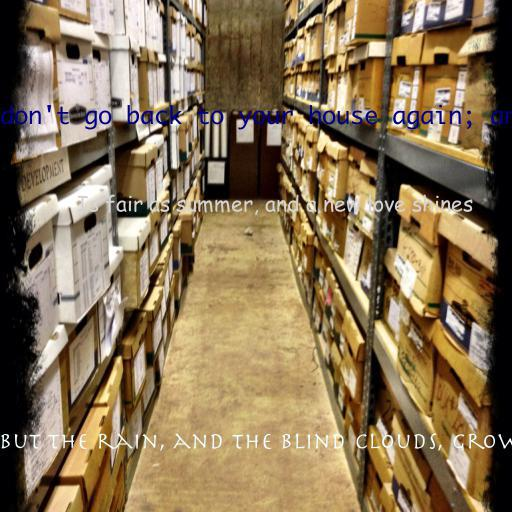Comic Sans MS: (77, 194, 473, 215)
Herculanum: (0, 433, 512, 451)
Monaco: (0, 104, 512, 130)
